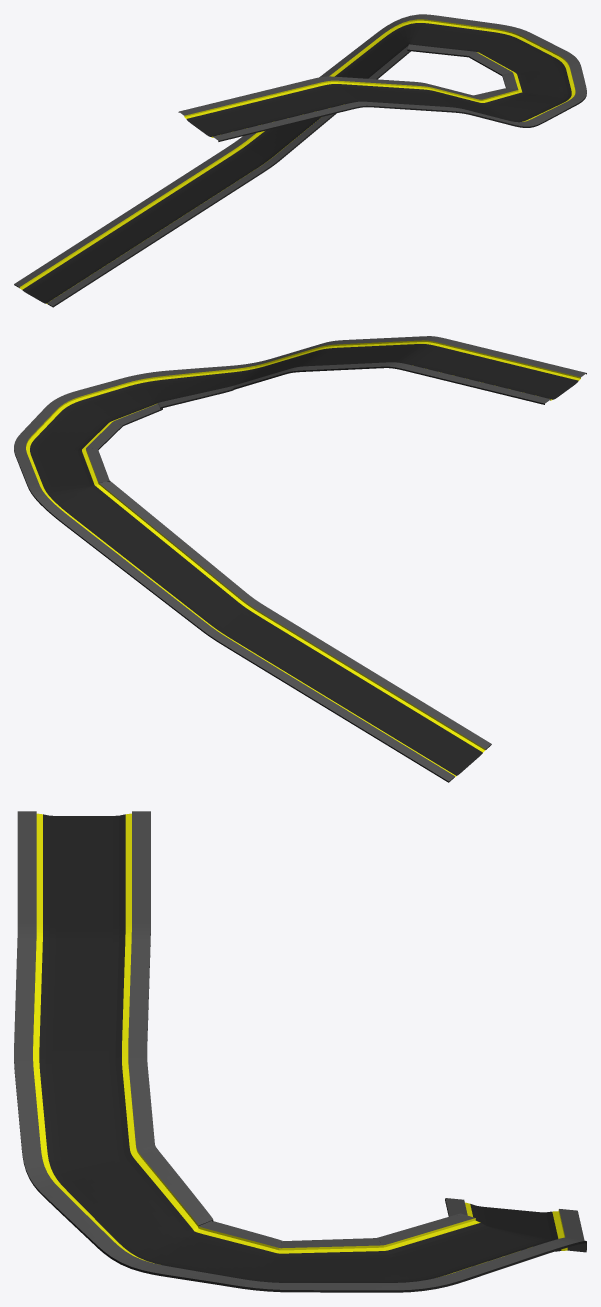
File: HighRoad.fbx
The picture shows the model from 3 angles, top to bottom: view 1: azimuth 30°, elevation 25°; view 2: azimuth 150°, elevation 25°; view 3: azimuth 270°, elevation 25°; orthographic projection. The views are drawn at different scales.
Parts seen in each view (by area): view 1: Plane; view 2: Plane; view 3: Plane.
Part boxes in pixels (x1,y1,x2,y2): Plane: (14,14,586,307); Plane: (14,336,586,782); Plane: (14,811,586,1292).
Size of the model in its own units: 5433 by 2858 by 3441.
